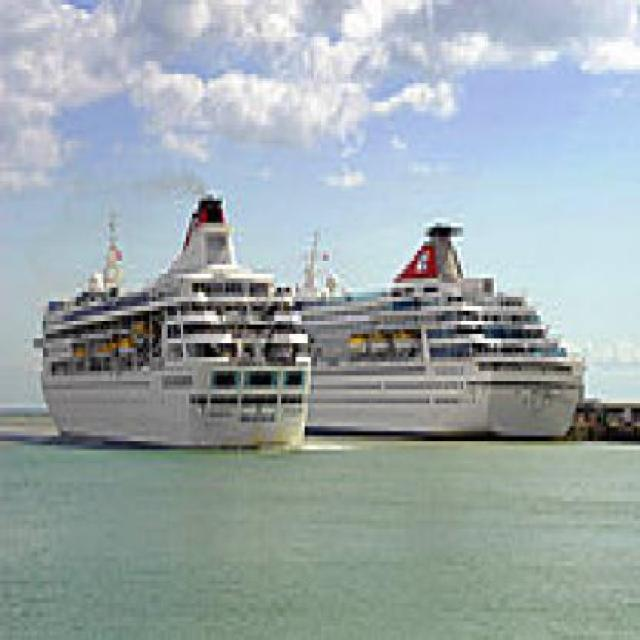cruise: (29, 168, 324, 465), (266, 210, 602, 461)
